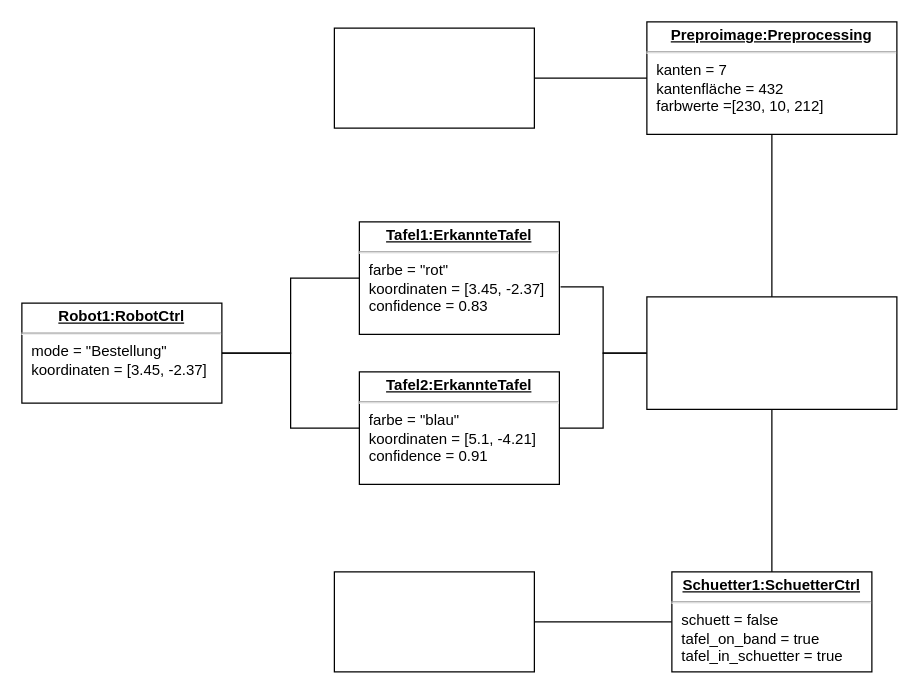
Some shapes in this 919 by 694 pixel diagram are drawn without their labels. Here are the shapes that lost their labels. From the top down, the centre of each, then its label:
(x=433, y=77): Camera1:CameraCtrl bildstream = [[243,21,30],...]
(x=771, y=352): Model:KI tafel_count = 2 layers = 3 type = "MLP"
(x=433, y=621): Band1:FliessbandCtrl move = false velocity = 0.0
